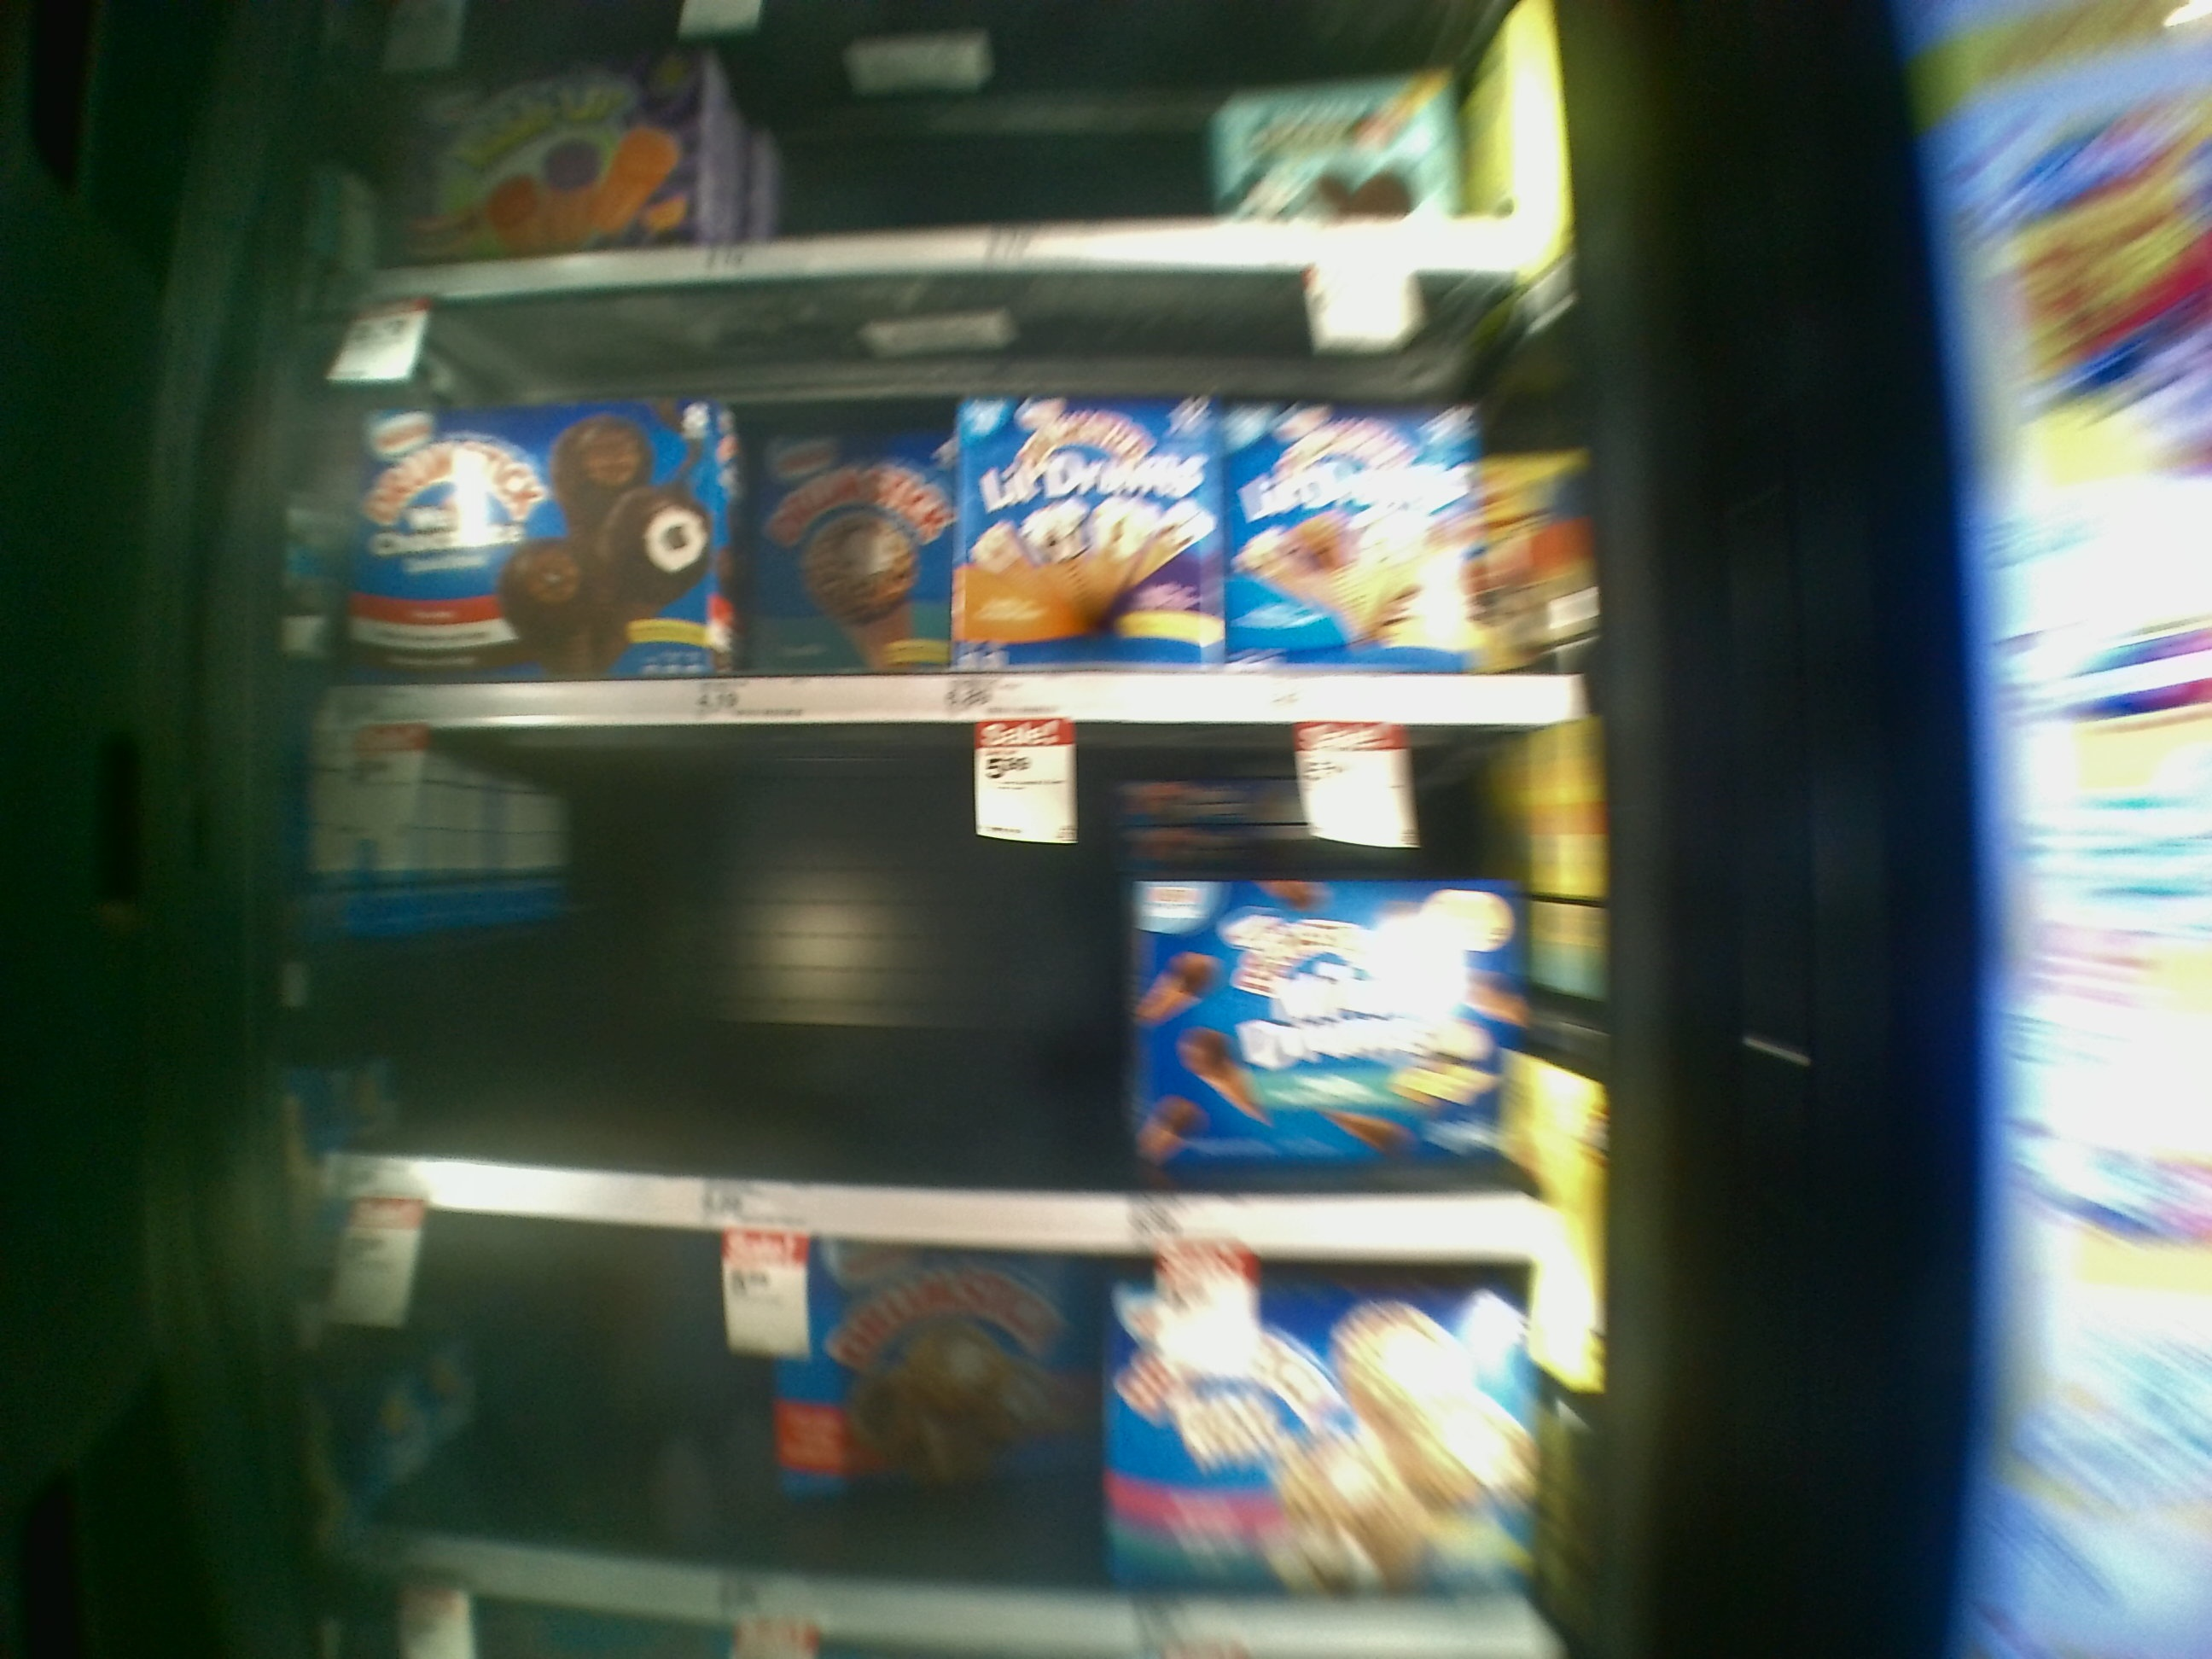shelf: (326, 727, 1622, 1260), (320, 272, 1588, 728)
